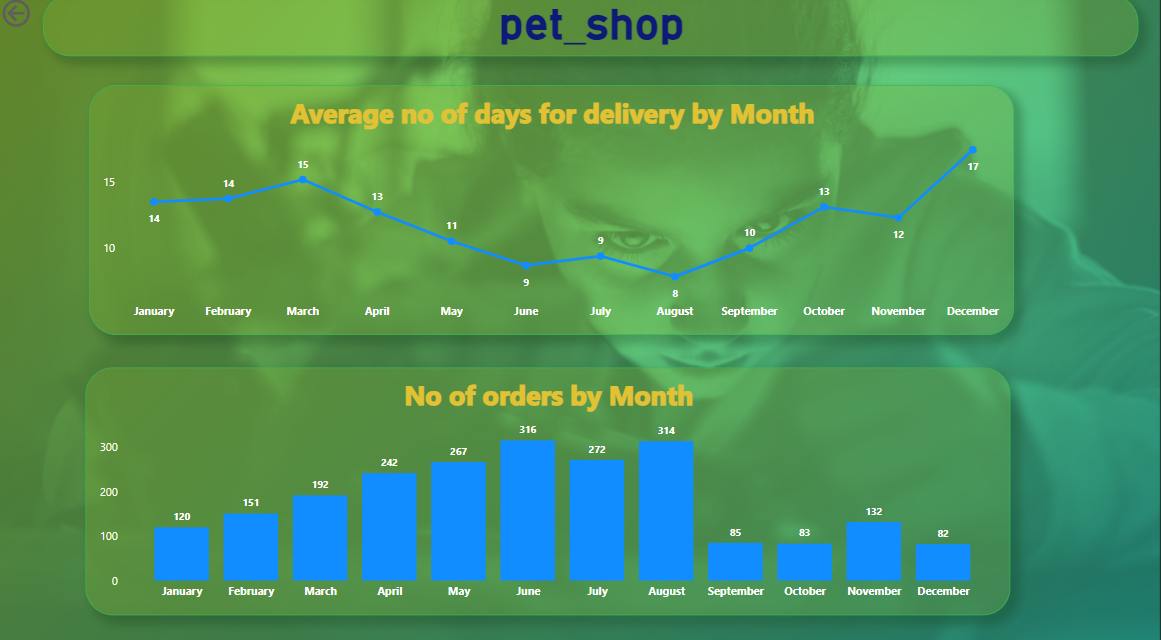

The page's visual inventory and layout, read from the dashboard file:
{"tool":"tableau","page":{"name":"Dashboard 3","canvas":[1000,1000],"units":"permille","ordinal":2},"visuals":[{"type":"blank","box":[0,0,1000,17.6]},{"type":"dashboard-object","box":[0,17.6,60.4,117.5]},{"type":"image","param":"C:/Users/afrin/Downloads/pet.jpg","box":[60.4,17.6,96,117.5]},{"type":"text","box":[156.3,17.6,783.4,117.5]},{"type":"dashboard-object","box":[939.6,17.6,60.4,117.5]},{"type":"blank","box":[0,135.1,1000,17.6]},{"type":"worksheet","title":"KPI-3.1","mark":"Bar","rows":["Calculation_450922927159508995"],"cols":["order_purchase_timestamp"],"box":[0,152.8,1000,481.8]},{"type":"worksheet","title":"KPI-3.2","mark":"Automatic","rows":["order_id (olist_order_items_dataset.csv)"],"cols":["order_purchase_timestamp"],"box":[0,634.6,1000,365.4]}]}

Visuals, with their boxes on the dashboard's canvas, which has no fixed pixel size, in thousandths of its width and height (x1, y1, x2, y2). These are canvas units, not pixel positions in the 1161x640 screenshot, which may show the page scaled, cropped or inside an application window:
blank: region(0, 0, 1000, 18)
dashboard-object: region(0, 18, 60, 135)
image: region(60, 18, 156, 135)
text: region(156, 18, 940, 135)
dashboard-object: region(940, 18, 1000, 135)
blank: region(0, 135, 1000, 153)
"KPI-3.1" worksheet (Bar marks): region(0, 153, 1000, 635)
"KPI-3.2" worksheet: region(0, 635, 1000, 1000)
